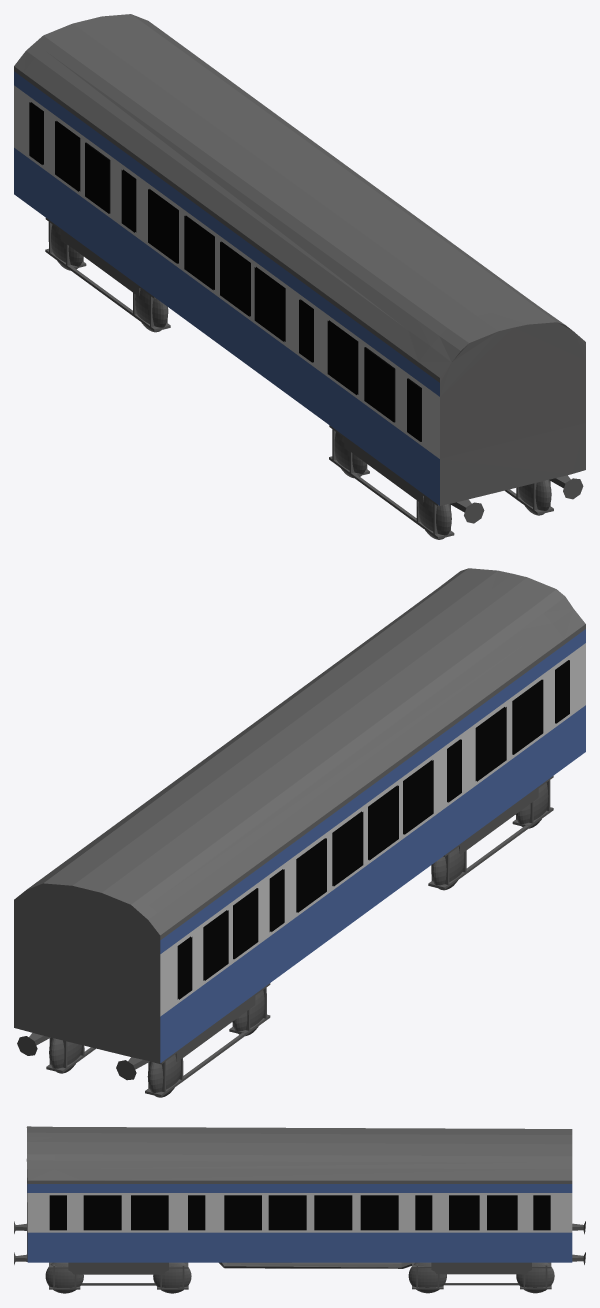
The model's file is BR-101-trailer-blue-grey.dae.
3 renders of one model, top to bottom at view 1: azimuth 30°, elevation 25°; view 2: azimuth 150°, elevation 25°; view 3: azimuth 270°, elevation 25°, orthographic. The views are drawn at different scales.
Parts seen in each view (by area): view 1: BR-cl101-front_rear; view 2: BR-cl101-front_rear; view 3: BR-cl101-front_rear.
Boxes of the visible parts, x1,y1,x2,y2 form: BR-cl101-front_rear: (14, 14, 585, 539); BR-cl101-front_rear: (14, 568, 585, 1097); BR-cl101-front_rear: (14, 1126, 585, 1293).
Bounding box in the file's own units: 2.04 × 10.57 × 2.87.
